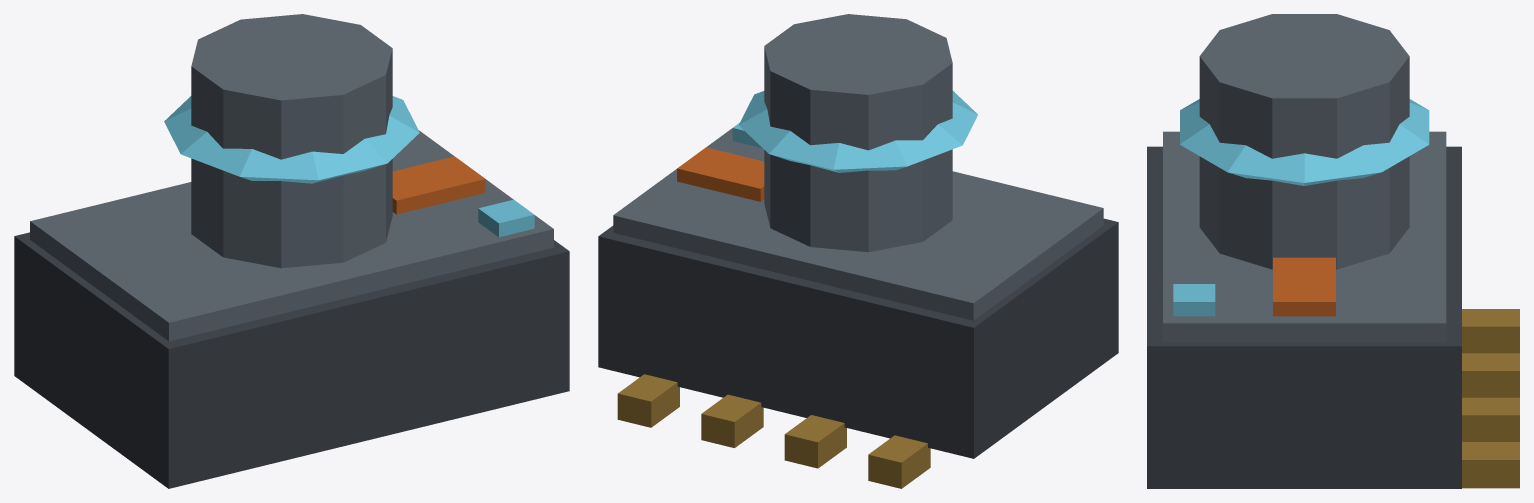
Rendered from droid-resourceful-drive.glb.
The picture shows the model from 3 angles, left to right: view 1: azimuth 30°, elevation 25°; view 2: azimuth 150°, elevation 25°; view 3: azimuth 270°, elevation 25°; orthographic projection. The views are drawn at different scales.
Visible parts, largest first — view 1: m; view 2: m; view 3: m.
Part boxes in pixels (x1=…): m: x1=14, y1=14, x2=569, y2=488; m: x1=598, y1=14, x2=1118, y2=488; m: x1=1147, y1=14, x2=1519, y2=488.
Bounding box in the file's own units: 0.1 × 0.0833 × 0.0789.
